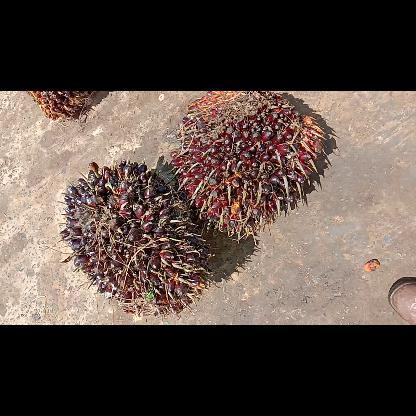TBS mentah: (56, 158, 216, 315), (170, 90, 326, 235)
